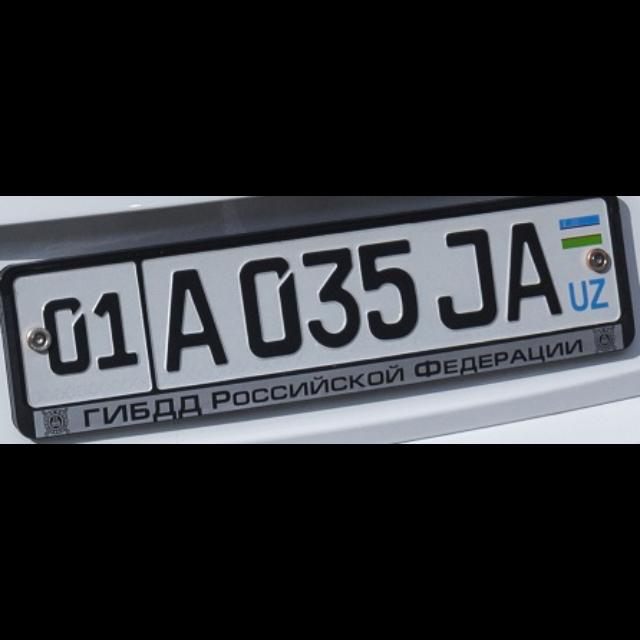0: (236, 256, 302, 356), (43, 295, 85, 371)
1: (94, 291, 136, 367)
3: (301, 248, 357, 346)
5: (358, 238, 418, 336)
A: (162, 266, 225, 366), (503, 224, 562, 320)
J: (434, 226, 498, 326)
